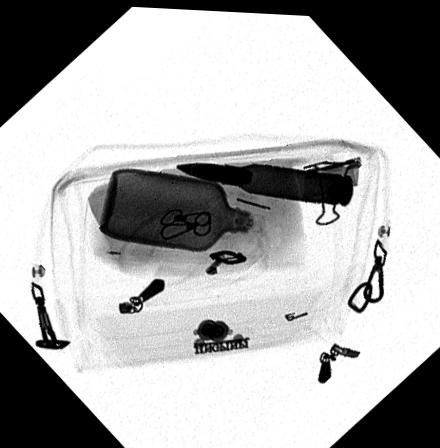Bullet: (170, 158, 354, 204)
